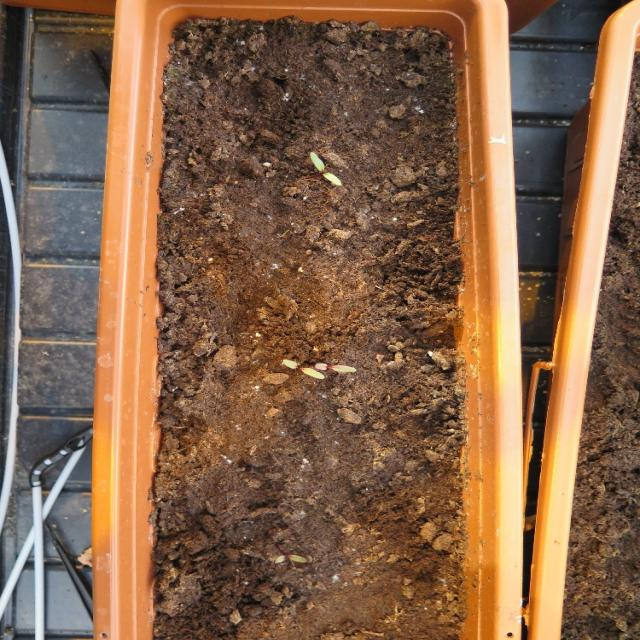crop: (308, 148, 342, 188), (272, 551, 306, 564)
